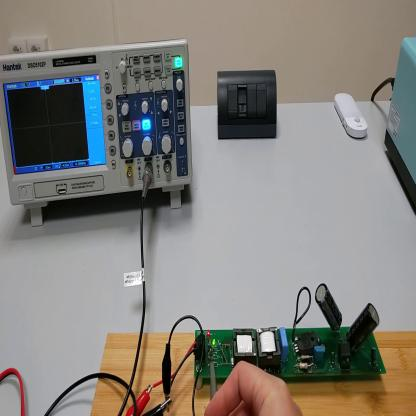hand: (206, 363, 303, 416)
high voltage board: (152, 283, 389, 416)
oscilloscope: (2, 40, 196, 228)
oscilloscope probe tip: (208, 361, 218, 399)
welder station: (386, 37, 416, 216)
working area: (92, 330, 416, 416)
